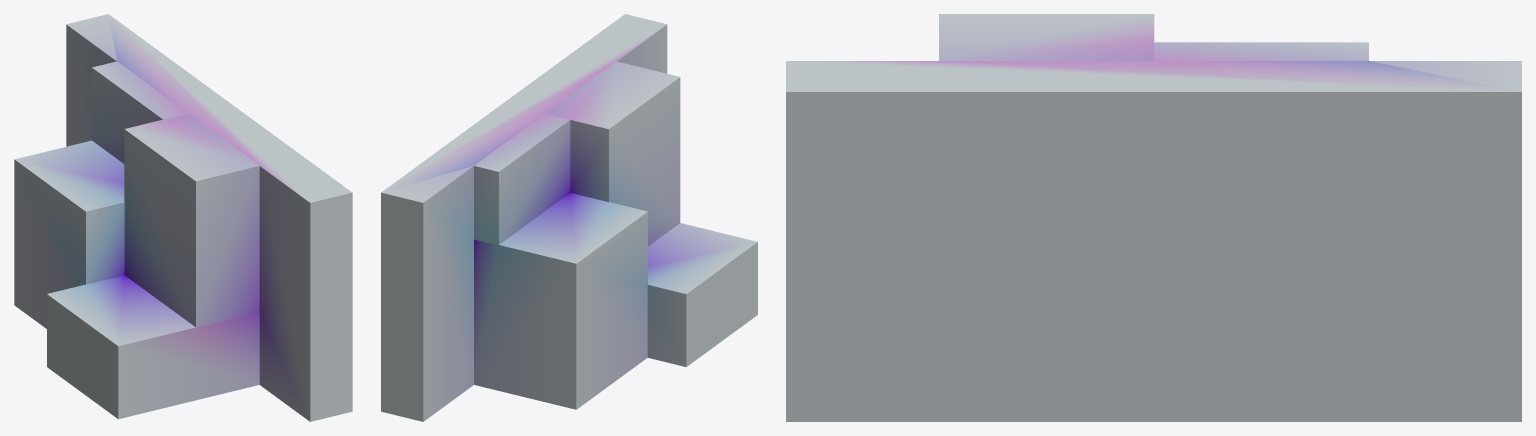
The picture shows the model from 3 angles, left to right: view 1: azimuth 30°, elevation 25°; view 2: azimuth 150°, elevation 25°; view 3: azimuth 270°, elevation 25°; orthographic projection. The views are drawn at different scales.
Parts seen in each view (by area): view 1: slab; view 2: slab; view 3: slab.
Boxes of the visible parts, bbox=[...] form: slab: bbox=[14, 14, 352, 421]; slab: bbox=[381, 14, 757, 421]; slab: bbox=[786, 14, 1521, 421].
Bounding box in the file's own units: 0.3472 × 0.396 × 0.8.
